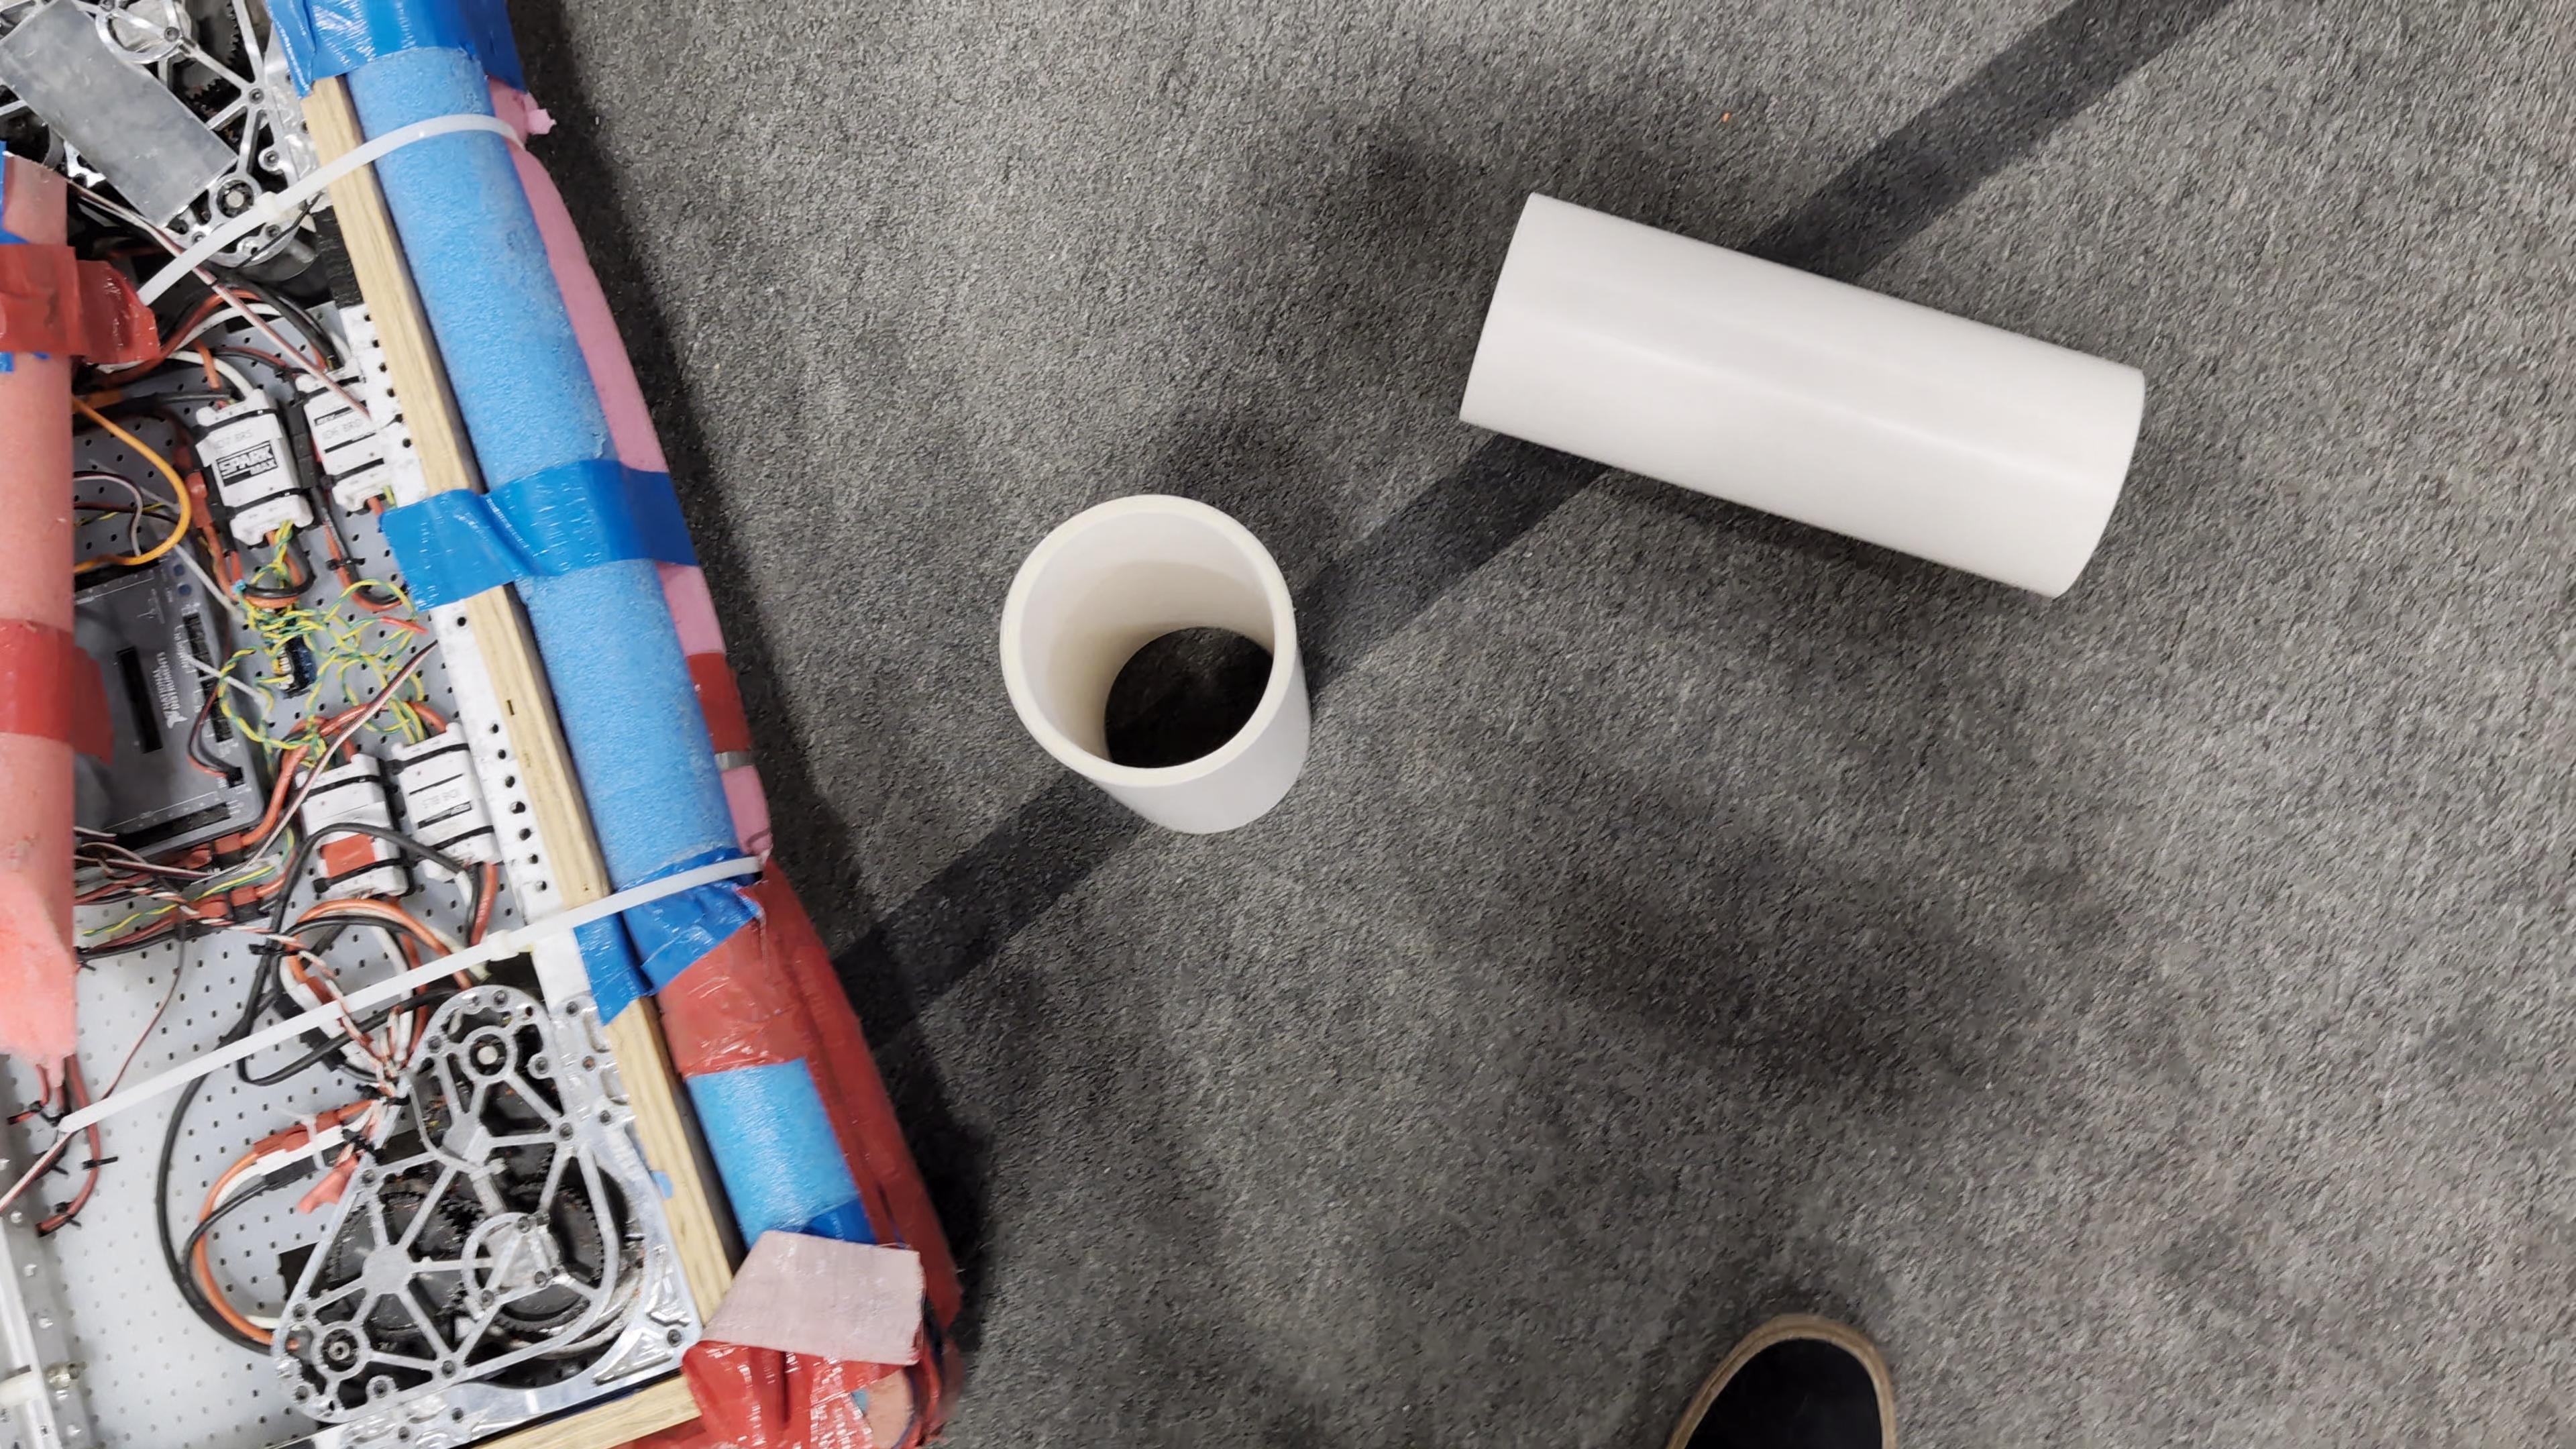coral: (1459, 187, 2155, 601), (1000, 494, 1311, 832)
